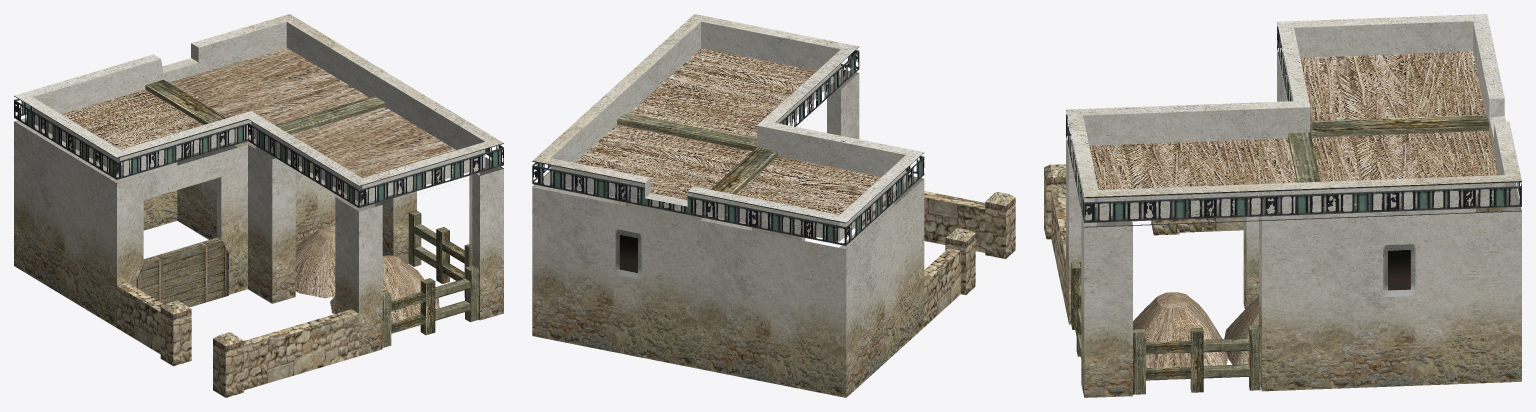
Rendered from kart_farmstead.dae.
3 renders of one model, left to right at view 1: azimuth 30°, elevation 25°; view 2: azimuth 150°, elevation 25°; view 3: azimuth 270°, elevation 25°, orthographic. The views are drawn at different scales.
Visible parts, largest first — view 1: Box01; view 2: Box01; view 3: Box01.
Boxes of the visible parts, <box> form: Box01: <box>14,14,503,397</box>; Box01: <box>532,14,1015,397</box>; Box01: <box>1044,14,1521,397</box>.
Bounding box in the file's own units: 13.57 × 14.95 × 6.93.
